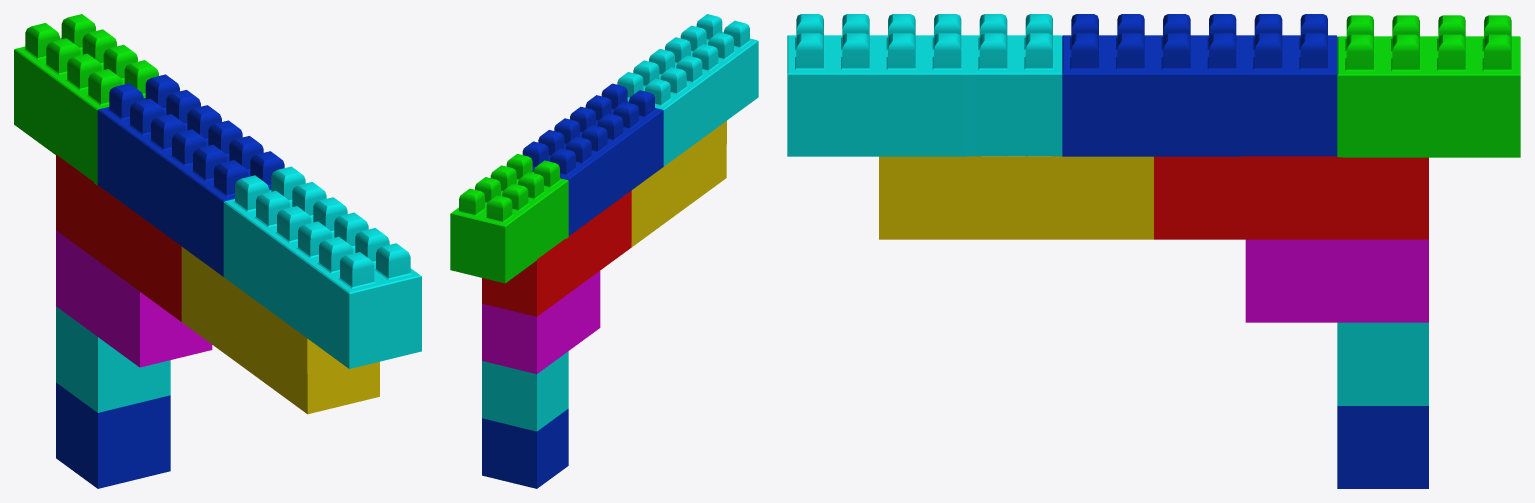
The model's file is glock.fbx.
3 renders of one model, left to right at view 1: azimuth 30°, elevation 25°; view 2: azimuth 150°, elevation 25°; view 3: azimuth 270°, elevation 25°, orthographic. The views are drawn at different scales.
Parts seen in each view (by area): view 1: klocekx5:klocekx3, klocekx88, klocekx89:klocekx2, klocekx7:klocekx3, klocekx62, klocekx2:klocekx2, klocekx73, klocekx76; view 2: klocekx88, klocekx5:klocekx3, klocekx89:klocekx2, klocekx62, klocekx2:klocekx2, klocekx7:klocekx3, klocekx73, klocekx76; view 3: klocekx88, klocekx5:klocekx3, klocekx89:klocekx2, klocekx7:klocekx3, klocekx62, klocekx2:klocekx2, klocekx76, klocekx73.
Part boxes in pixels (x1=…): klocekx5:klocekx3: x1=223, y1=166, x2=421, y2=368; klocekx88: x1=97, y1=74, x2=284, y2=276; klocekx89:klocekx2: x1=14, y1=14, x2=158, y2=185; klocekx7:klocekx3: x1=181, y1=247, x2=379, y2=414; klocekx62: x1=56, y1=154, x2=181, y2=321; klocekx2:klocekx2: x1=56, y1=230, x2=212, y2=367; klocekx73: x1=56, y1=382, x2=170, y2=488; klocekx76: x1=56, y1=306, x2=170, y2=412; klocekx88: x1=522, y1=83, x2=663, y2=235; klocekx5:klocekx3: x1=617, y1=14, x2=758, y2=166; klocekx89:klocekx2: x1=450, y1=154, x2=568, y2=283; klocekx62: x1=482, y1=190, x2=631, y2=316; klocekx2:klocekx2: x1=482, y1=271, x2=600, y2=374; klocekx7:klocekx3: x1=631, y1=121, x2=726, y2=246; klocekx73: x1=482, y1=408, x2=568, y2=488; klocekx76: x1=482, y1=351, x2=568, y2=431; klocekx88: x1=1062, y1=14, x2=1337, y2=156; klocekx5:klocekx3: x1=787, y1=14, x2=1062, y2=156; klocekx89:klocekx2: x1=1337, y1=15, x2=1520, y2=157; klocekx7:klocekx3: x1=879, y1=156, x2=1153, y2=239; klocekx62: x1=1154, y1=156, x2=1428, y2=239; klocekx2:klocekx2: x1=1245, y1=239, x2=1428, y2=322; klocekx76: x1=1337, y1=322, x2=1428, y2=405; klocekx73: x1=1337, y1=406, x2=1428, y2=488.
Size of the model in its own units: 3.01 by 16 by 24.
